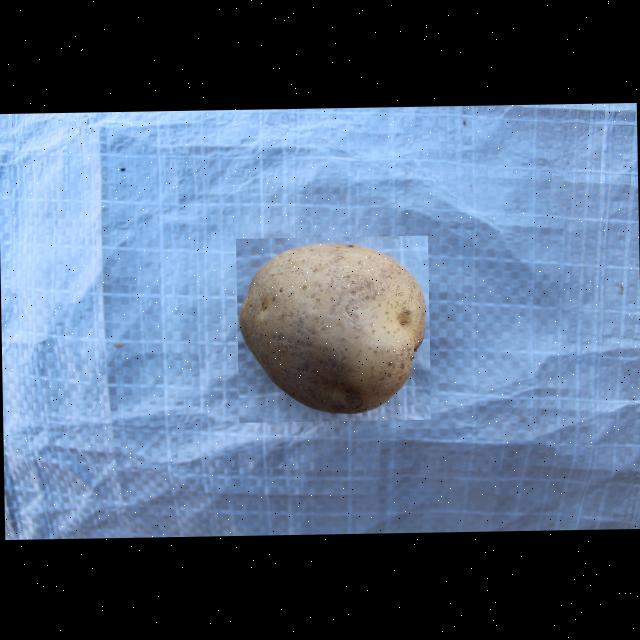Diseased-fungal potato: (235, 234, 430, 422)
